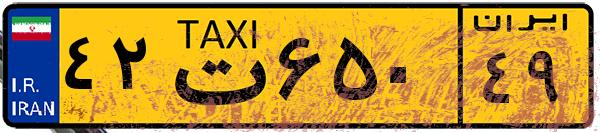0: (385, 28, 445, 110)
2: (110, 28, 158, 98)
4: (57, 26, 110, 100), (475, 38, 525, 113)
5: (330, 28, 385, 110)
6: (270, 28, 330, 110)
9: (525, 38, 570, 115)
ت: (158, 12, 270, 120)
